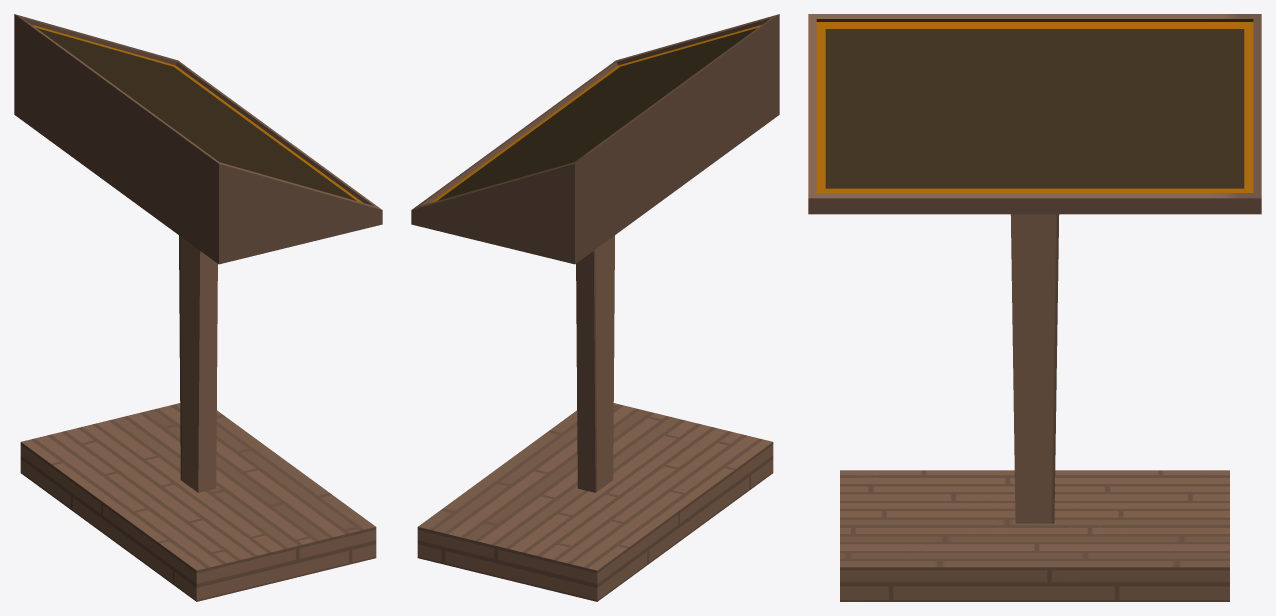
The model's file is BaseYellow.glb.
The picture shows the model from 3 angles, left to right: view 1: azimuth 30°, elevation 25°; view 2: azimuth 150°, elevation 25°; view 3: azimuth 270°, elevation 25°; orthographic projection. The views are drawn at different scales.
Visible parts, largest first — view 1: Base; view 2: Base; view 3: Base.
Part boxes in pixels (left/top/right/bottom): Base: left=14, top=14, right=382, bottom=601; Base: left=411, top=14, right=779, bottom=601; Base: left=808, top=14, right=1261, bottom=601.
Size of what is drawn, in the model's own units: 0.5519 by 1.31 by 1.09.
3 materials, 3 textured.
